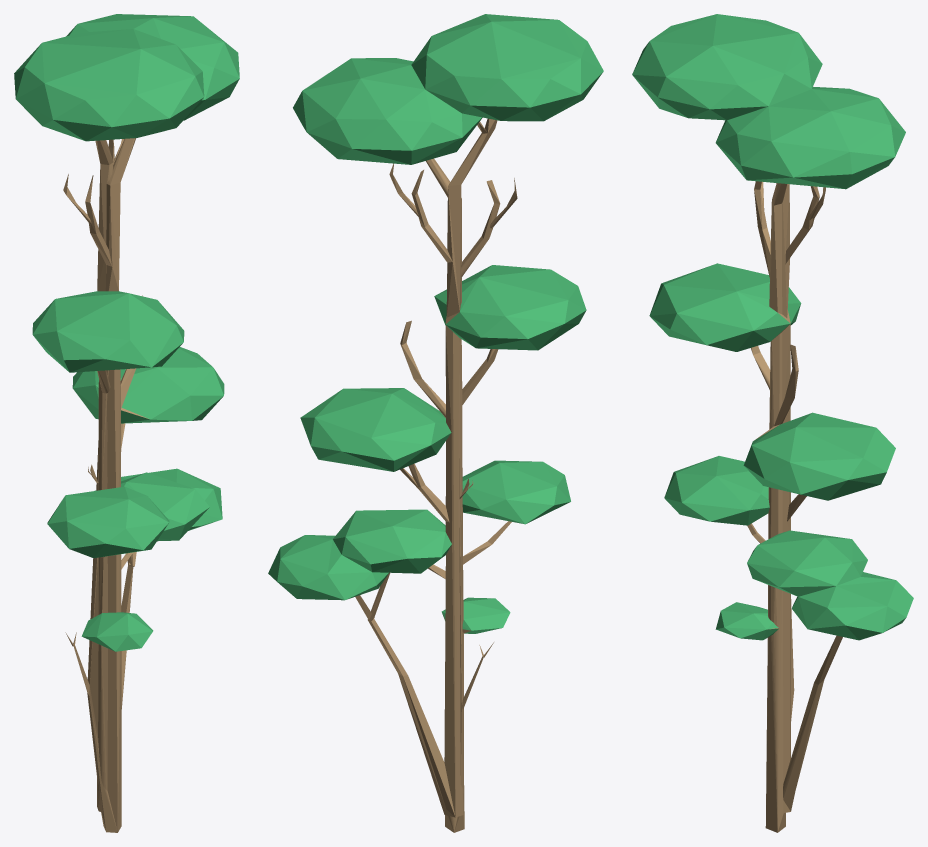
Rendered from tree37.fbx.
3 renders of one model, left to right at view 1: azimuth 30°, elevation 25°; view 2: azimuth 150°, elevation 25°; view 3: azimuth 270°, elevation 25°, orthographic. The views are drawn at different scales.
Visible parts, largest first — view 1: treetype37; view 2: treetype37; view 3: treetype37.
Part boxes in pixels (<box>): treetype37: <box>14,14,239,832</box>; treetype37: <box>268,14,603,832</box>; treetype37: <box>632,14,913,832</box>.
Size of the model in its own units: 80.21 by 240 by 78.63.
